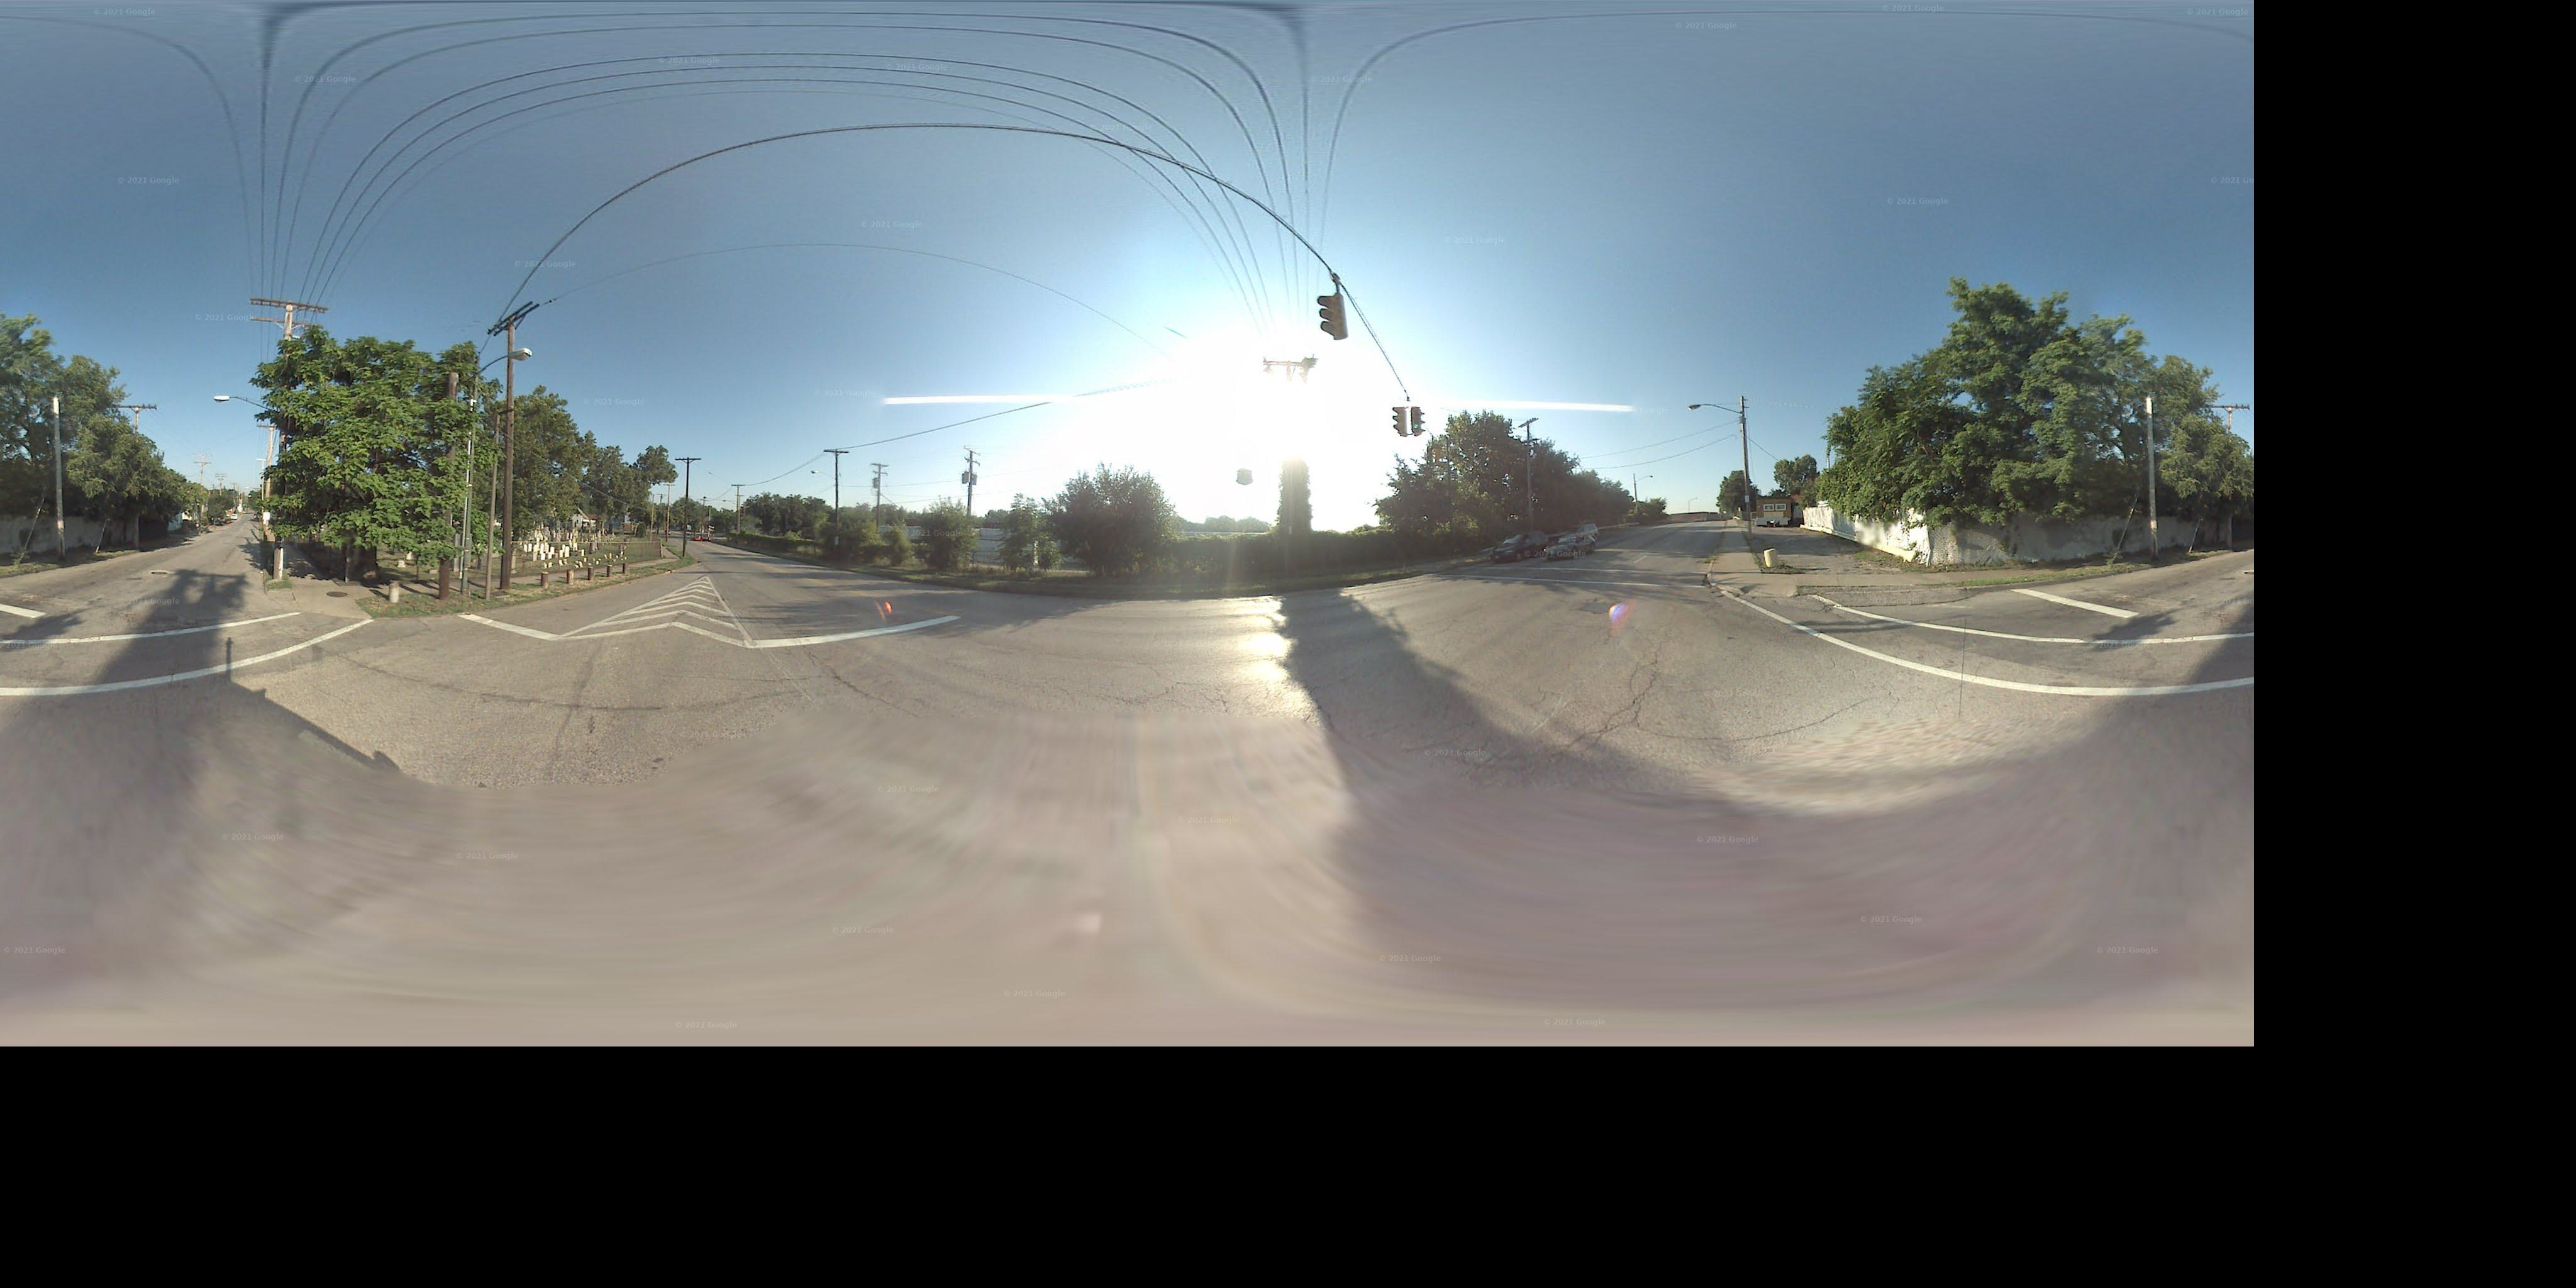Curb Ramp: (294, 582, 376, 637), (1736, 577, 1796, 603)
Irregular Ramp: (1697, 565, 1725, 596)
